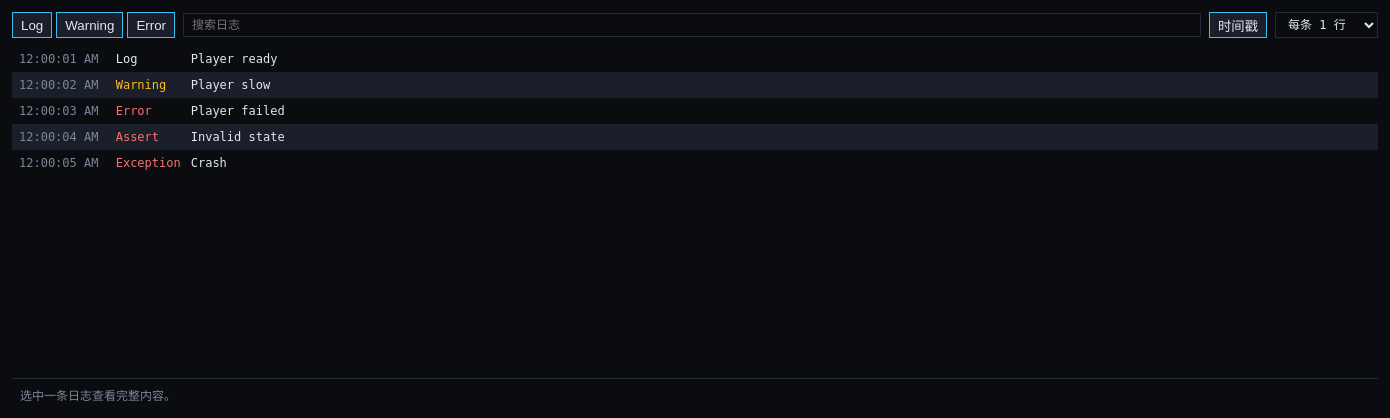
Test: combines level filters with case-insensitive message and stack searches
expect the text "Player ready" is shown: met, box [191,52,277,66]
expect the text "Player slow" is shown: met, box [191,78,270,92]
Click the button "Log". click: point(32, 25)
box: [12,12,52,38]
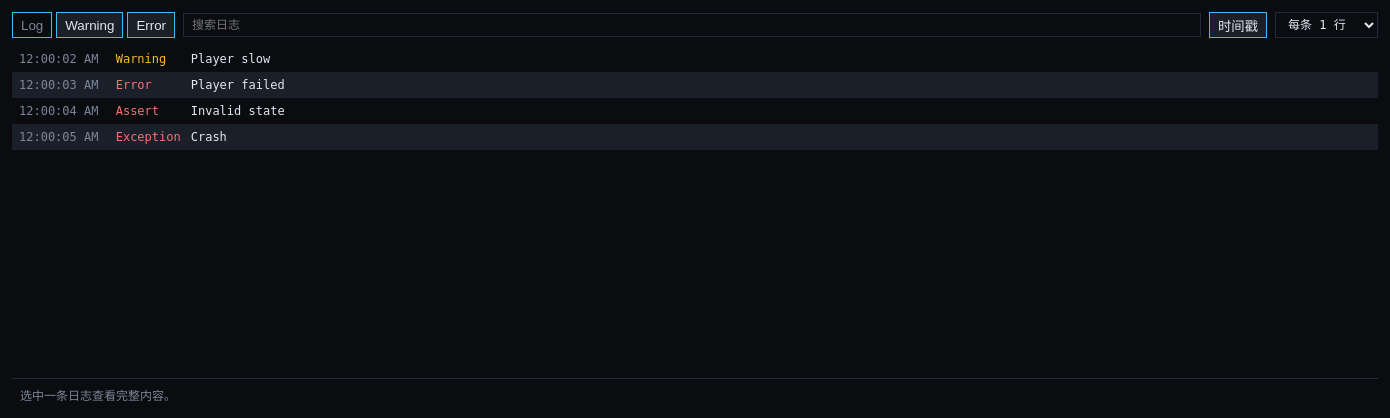
expect the button "Player ready" is gone: met
Click the button "Warning". click: point(90, 25)
box: [56,12,123,38]
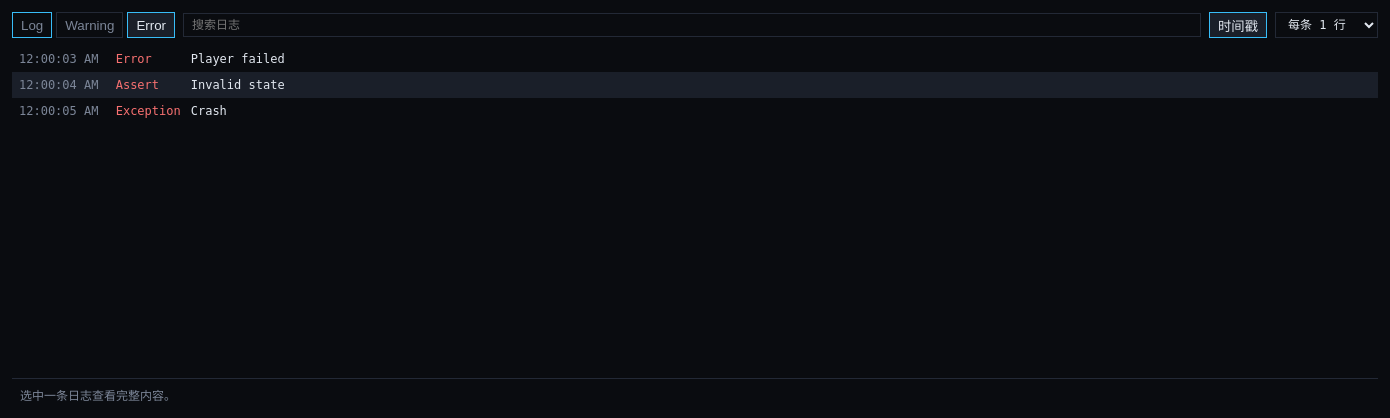
expect the text "Player failed" is shown: met, box [191,52,285,66]
expect the button "Player slow" is gone: met
Type " PLAYER.UPDATE() " into the search field labelled "搜索日志". click: point(692, 25)
box: [183,13,1201,37]
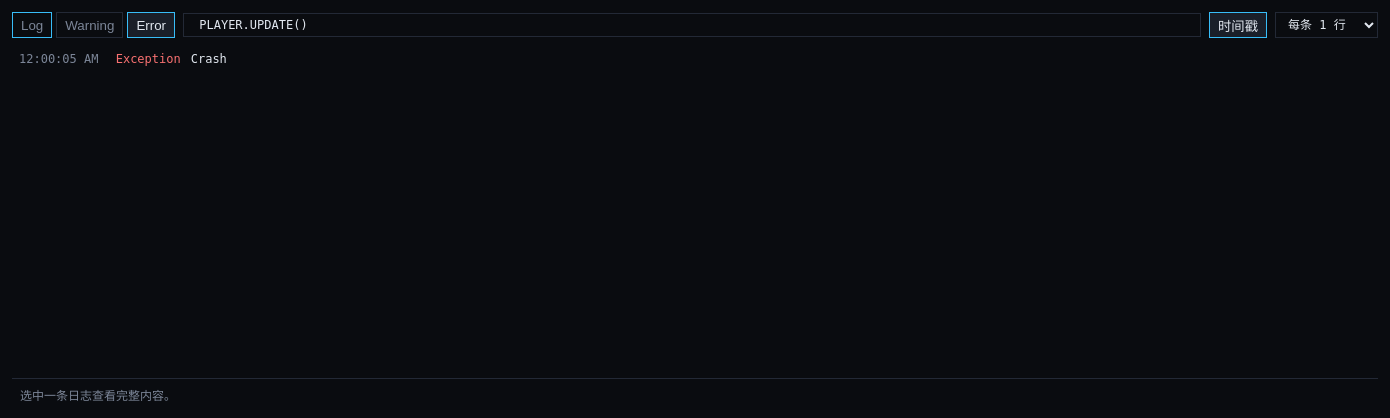
expect the text "Crash" is shown: met, box [191,52,227,66]
expect the button "Player failed" is gone: met
expect the button "Invalid state" is gone: met
Click the button "Error". click: point(151, 25)
box: [127,12,175,38]
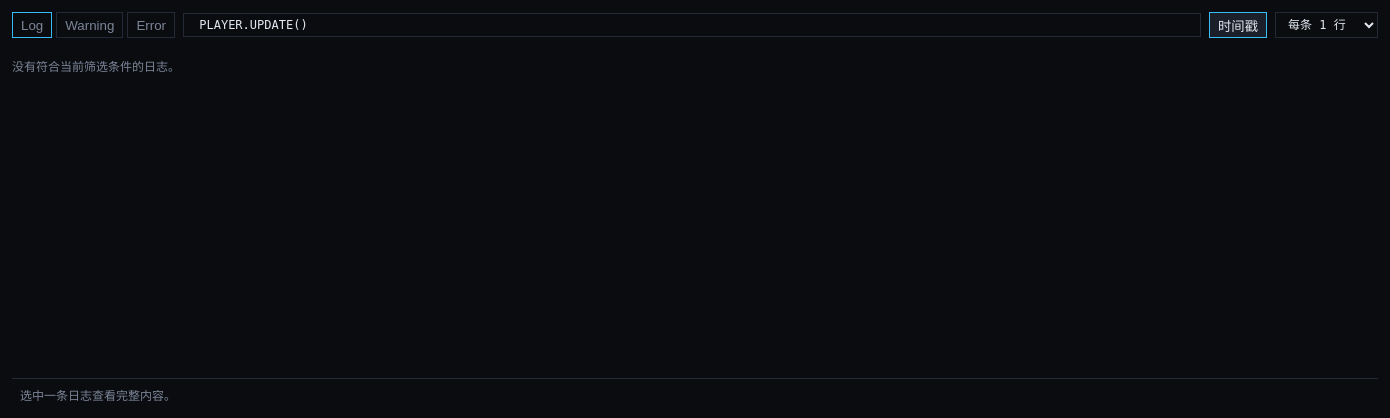
expect the text "没有符合当前筛选条件的日志。" is shown: met, box [12,60,180,74]
expect the button "Crash" is gone: met
Click the button "Error". click: point(151, 25)
box: [127,12,175,38]
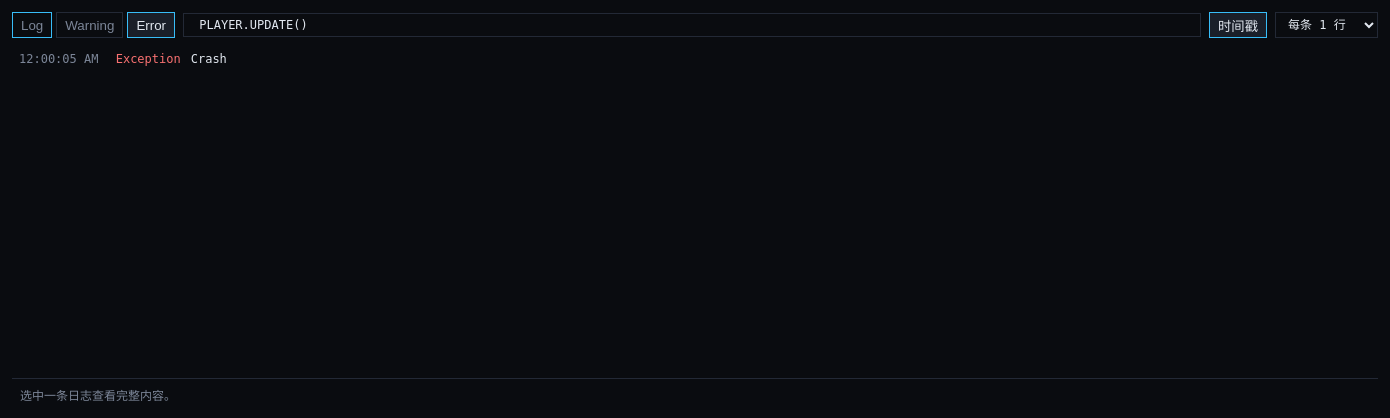
Clear the search field named "搜索日志". click: point(692, 25)
box: [183,13,1201,37]
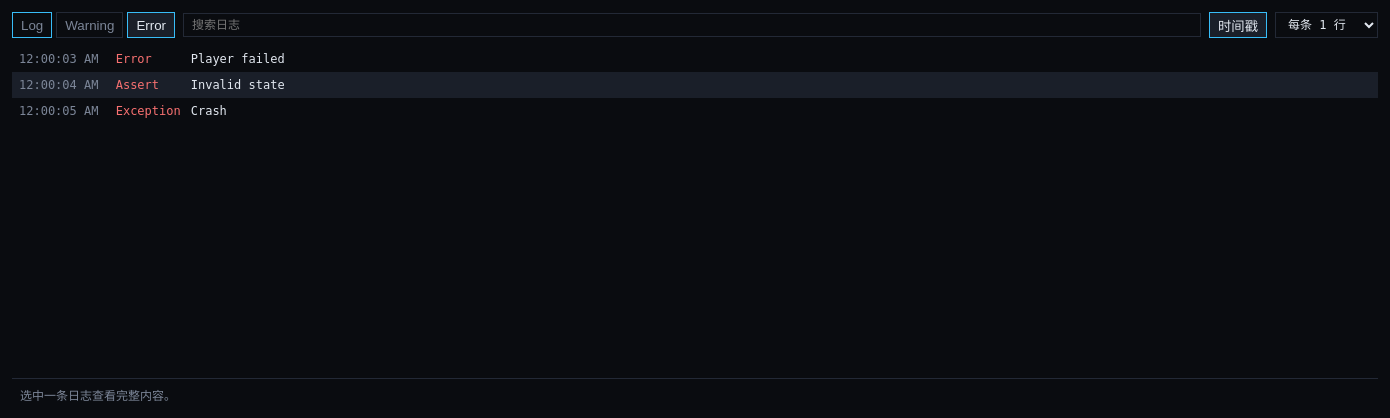
expect the text "Crash" is shown: met, box [191,104,227,118]
expect the text "Player failed" is shown: met, box [191,52,285,66]
expect the text "Invalid state" is shown: met, box [191,78,285,92]
